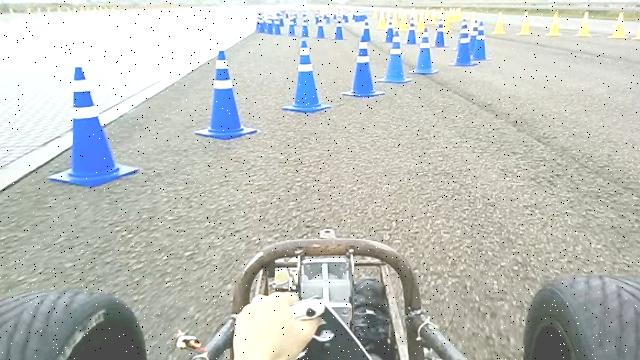blue cone: (48, 65, 139, 188), (194, 49, 257, 140), (281, 39, 331, 113), (341, 39, 385, 97), (377, 33, 412, 83), (408, 27, 438, 74), (448, 22, 478, 67), (471, 21, 491, 61)
yellow cone: (607, 12, 629, 38), (575, 11, 591, 36), (517, 10, 532, 35), (546, 11, 561, 36), (492, 11, 505, 34), (632, 12, 640, 40)
